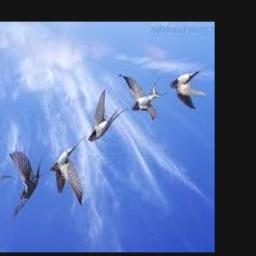Swallow: (50, 134, 89, 206), (119, 72, 166, 121), (10, 151, 43, 218), (88, 92, 128, 142), (170, 66, 207, 109), (0, 159, 12, 244)
